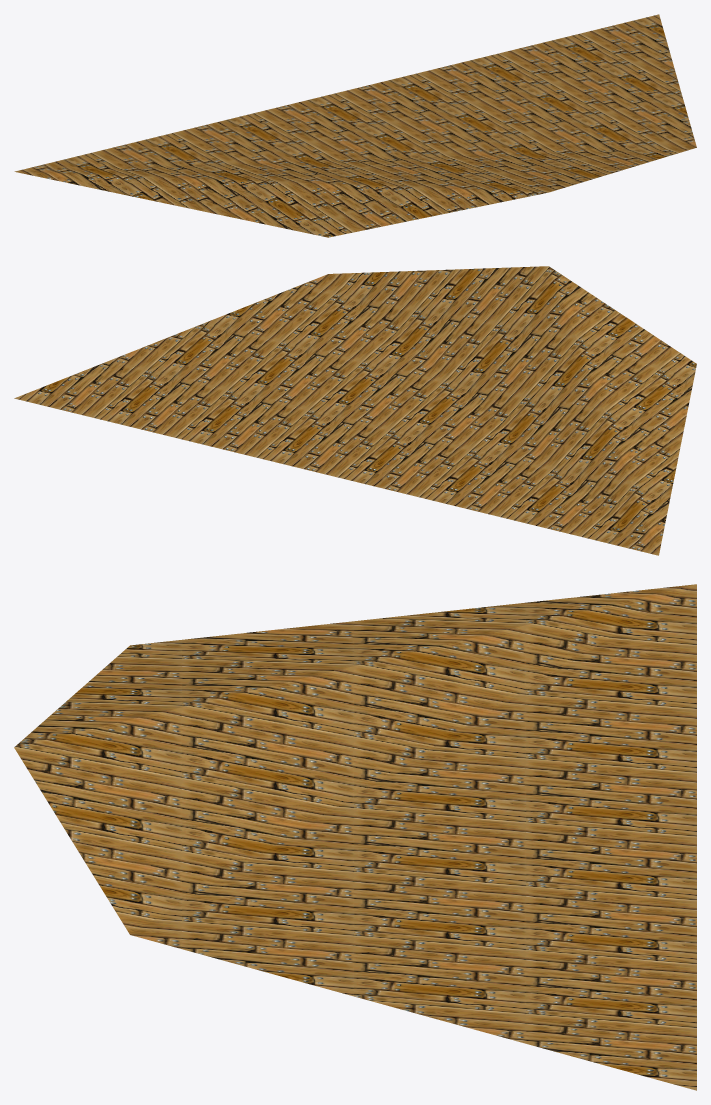
Rendered from Schiff_PattformHinten_1268.glb.
3 views of the same model, one above another, from view 1: azimuth 30°, elevation 25°; view 2: azimuth 150°, elevation 25°; view 3: azimuth 270°, elevation 25° (orthographic). The views are drawn at different scales.
Parts seen in each view (by area): view 1: ship_plattform_hintenShape; view 2: ship_plattform_hintenShape; view 3: ship_plattform_hintenShape.
Part boxes in pixels (x1,y1,x2,y2): ship_plattform_hintenShape: (14,14,696,237); ship_plattform_hintenShape: (14,266,696,555); ship_plattform_hintenShape: (14,584,696,1090).
Bounding box in the file's own units: 1.72 × 0.1419 × 0.9786.
1 material, 1 textured.
